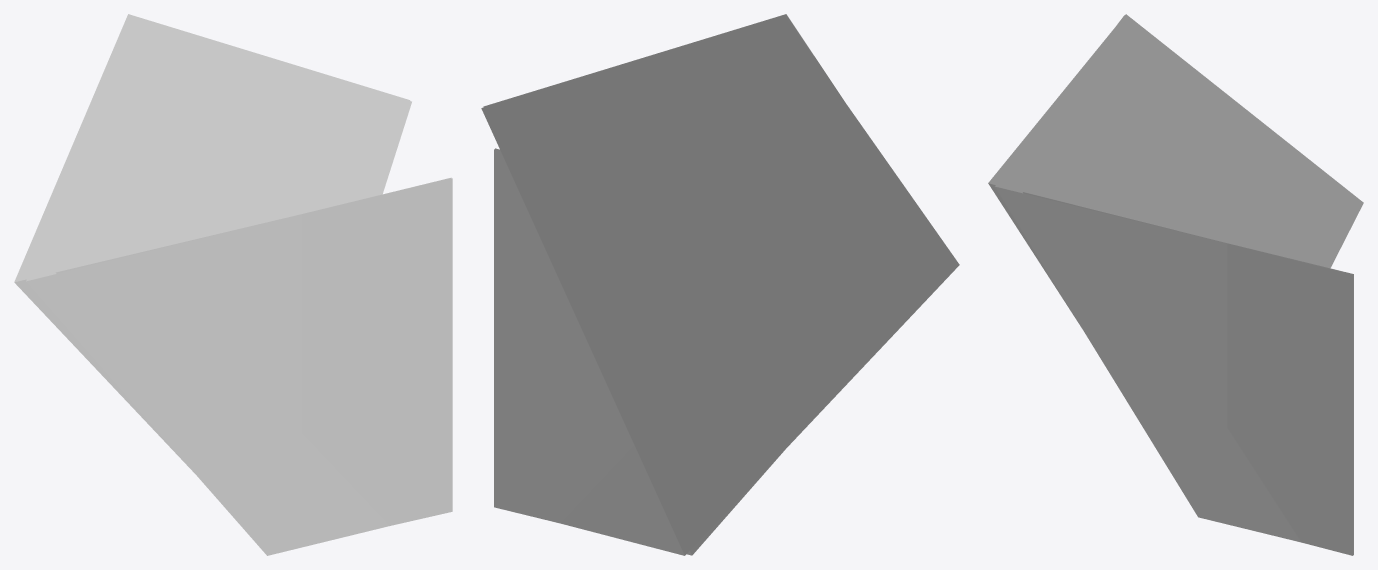
The model's file is dollar_note_20_folded.fbx.
3 views of the same model, side by side, from view 1: azimuth 30°, elevation 25°; view 2: azimuth 150°, elevation 25°; view 3: azimuth 330°, elevation 25° (orthographic). The views are drawn at different scales.
Parts seen in each view (by area): view 1: dollar note 20 folded; view 2: dollar note 20 folded; view 3: dollar note 20 folded.
Part boxes in pixels (x1,y1,x2,y2): dollar note 20 folded: (14, 14, 452, 555); dollar note 20 folded: (481, 14, 959, 555); dollar note 20 folded: (988, 14, 1363, 555).
Bounding box in the file's own units: 27.35 × 32.98 × 3.02.
